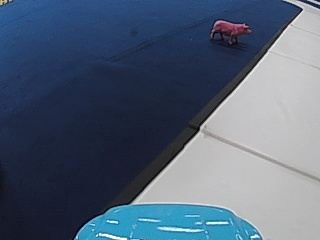pig: (209, 17, 251, 45)
